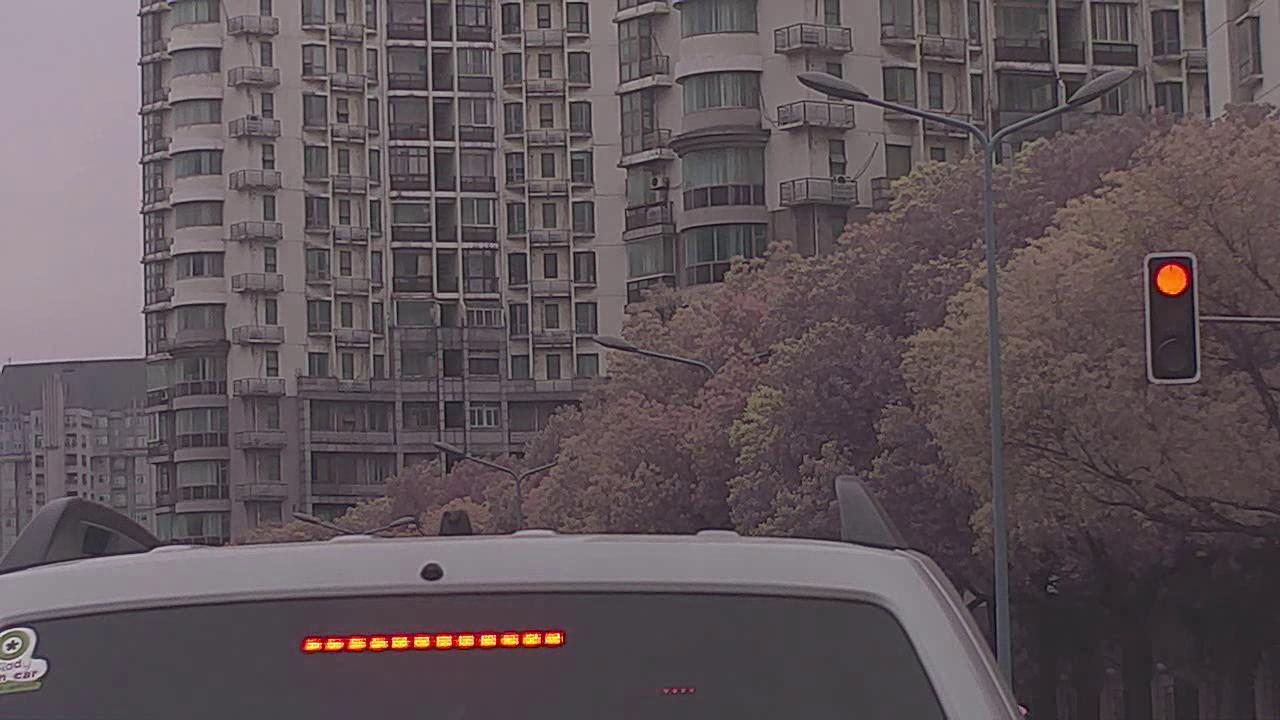traffic_light: (1143, 253, 1204, 383)
